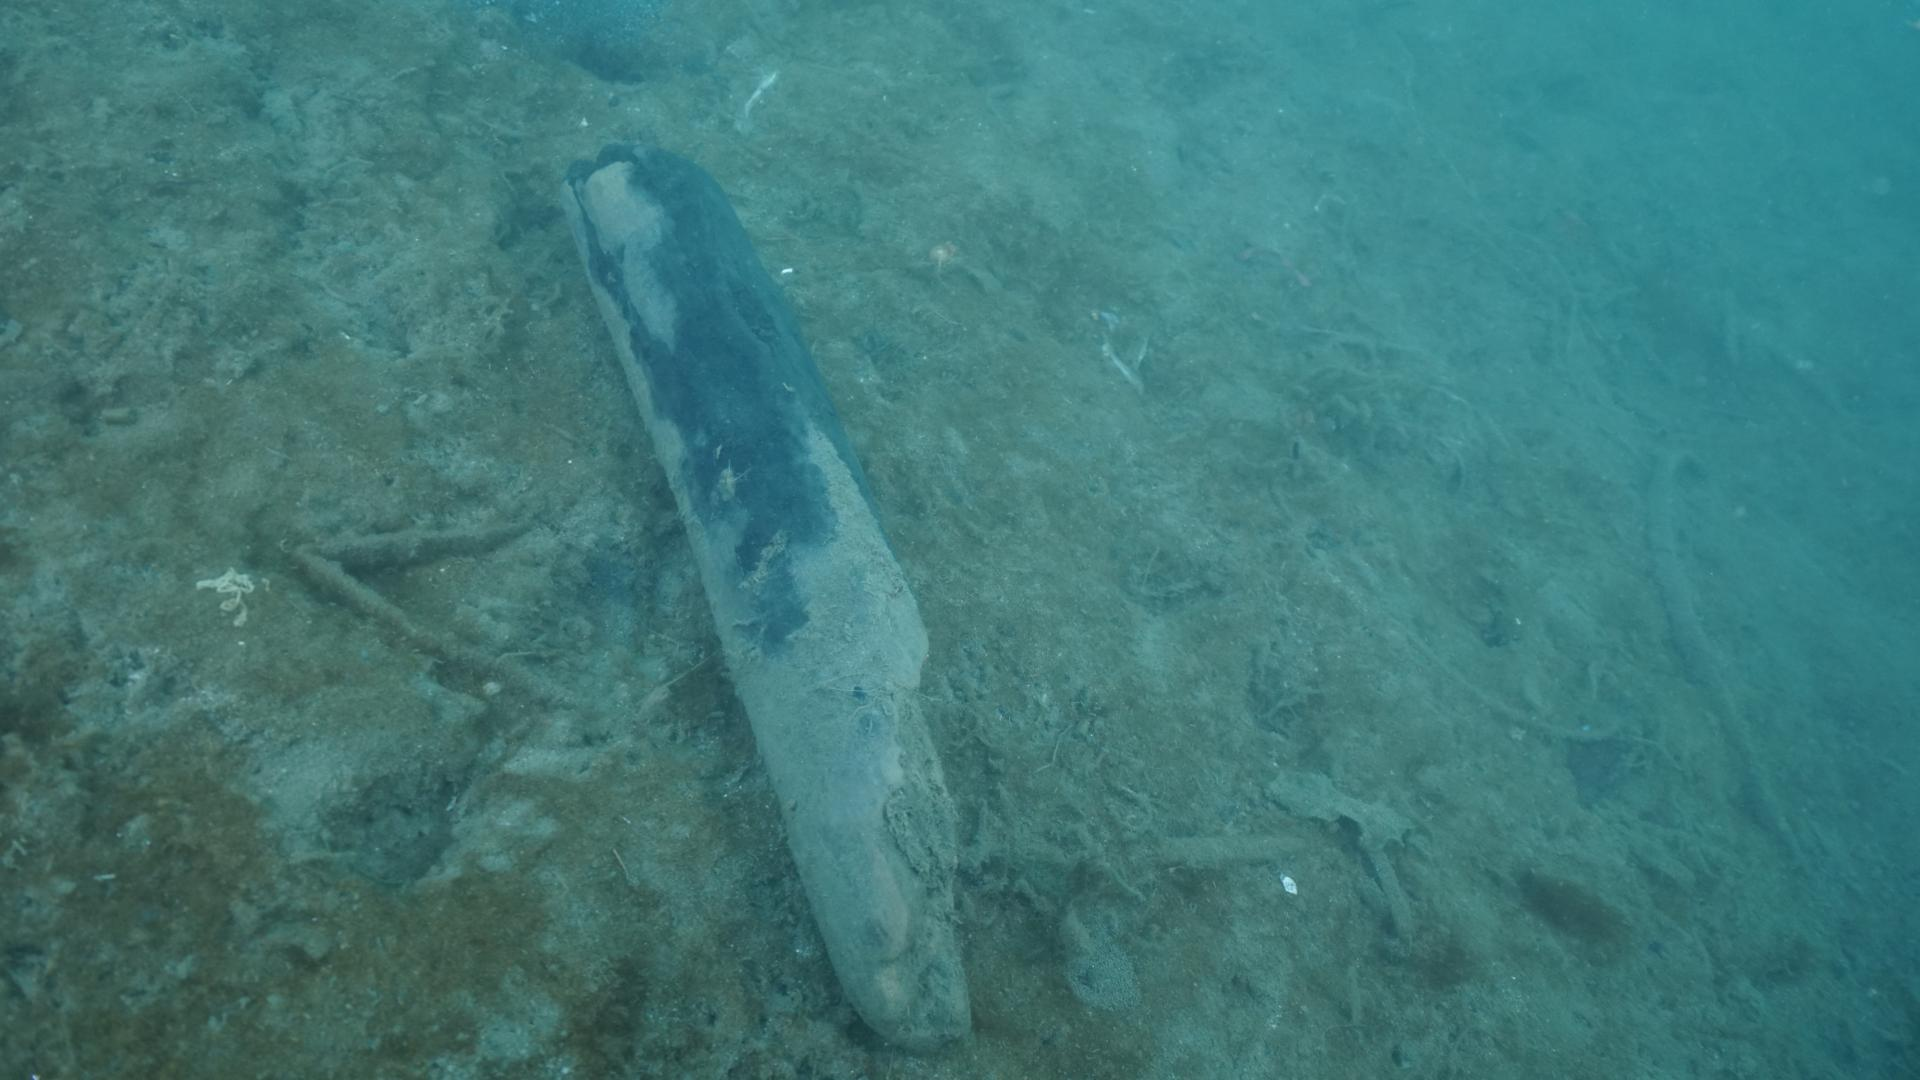wood: (551, 135, 982, 1050)
